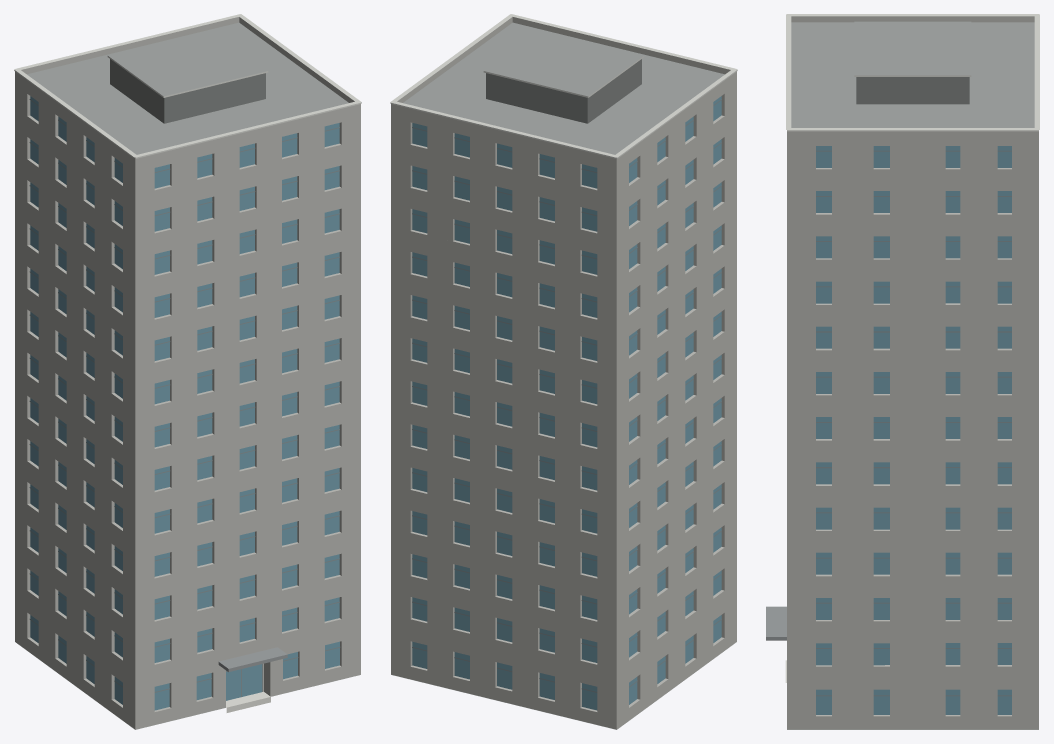
3 renders of one model, left to right at view 1: azimuth 30°, elevation 25°; view 2: azimuth 150°, elevation 25°; view 3: azimuth 270°, elevation 25°, orthographic. The views are drawn at different scales.
Visible parts, largest first — view 1: unist-batch-b302__parapet, b302__glass, b302__trim, b302__frame, b302__canopy, b302__entranceThreshold_0; view 2: unist-batch-b302__parapet, b302__glass, b302__trim, b302__frame; view 3: unist-batch-b302__parapet, b302__glass, b302__trim, b302__frame, b302__canopy.
Part boxes in pixels (<box>): unist-batch-b302__parapet: <box>15,17,360,729</box>; b302__glass: <box>30,96,339,710</box>; b302__trim: <box>14,14,361,158</box>; b302__frame: <box>29,99,340,697</box>; b302__canopy: <box>218,647,287,672</box>; b302__entranceThreshold_0: <box>226,691,270,712</box>; unist-batch-b302__parapet: <box>391,17,736,729</box>; b302__glass: <box>412,96,721,710</box>; b302__trim: <box>390,14,737,158</box>; b302__frame: <box>412,99,721,692</box>; unist-batch-b302__parapet: <box>787,16,1038,729</box>; b302__glass: <box>816,146,1011,714</box>; b302__trim: <box>786,14,1039,131</box>; b302__frame: <box>816,150,1011,696</box>; b302__canopy: <box>766,606,786,640</box>.
Size of the model in its own units: 18.48 by 46.6 by 18.38.
